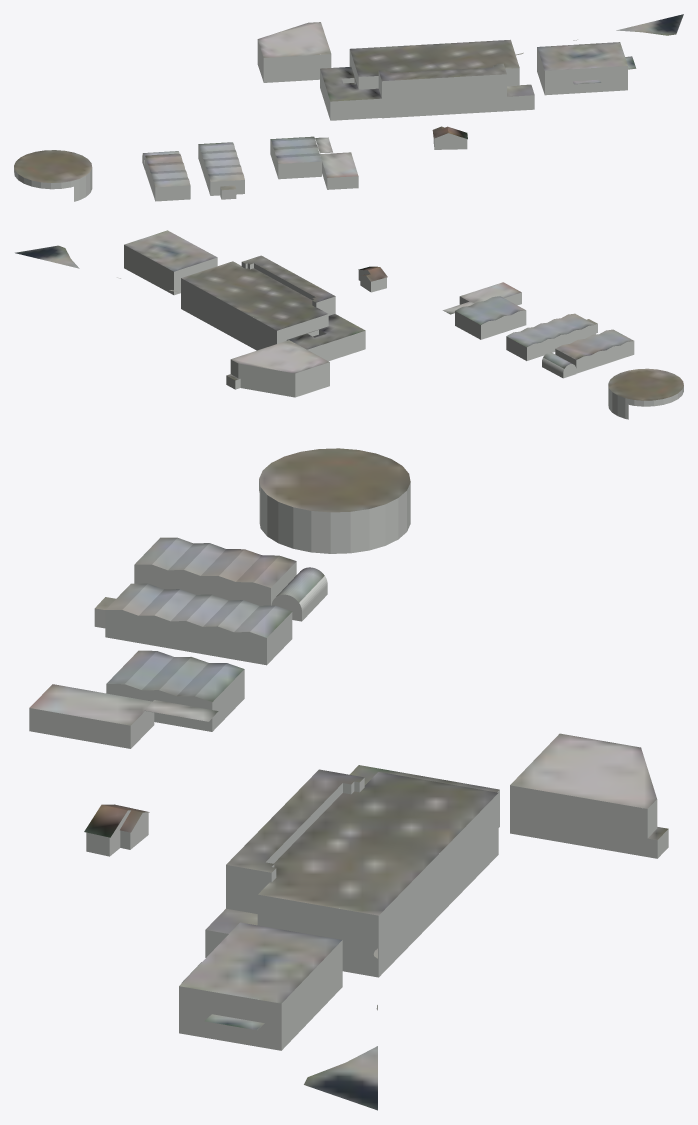
The model's file is LSGG_-3_-4.glb.
The picture shows the model from 3 angles, top to bottom: view 1: azimuth 30°, elevation 25°; view 2: azimuth 150°, elevation 25°; view 3: azimuth 270°, elevation 25°; orthographic projection. The views are drawn at different scales.
Parts seen in each view (by area): view 1: building_96167df593179bdd, building_eed966557655fe4e, building_76de2e909f078524, building_7ff7ebfd052c9dc2, building_52f3177f1ef45402, building_64ed2447fc3cdbe9, building_bb6d4329c1893551, building_b19aae740c8fd59b, pavement_LSGG_pavement_4992_2239; view 2: building_96167df593179bdd, building_eed966557655fe4e, building_76de2e909f078524, building_7ff7ebfd052c9dc2, building_b19aae740c8fd59b, building_52f3177f1ef45402, building_bb6d4329c1893551, building_64ed2447fc3cdbe9, pavement_LSGG_pavement_4992_2239; view 3: building_96167df593179bdd, building_eed966557655fe4e, building_76de2e909f078524, building_7ff7ebfd052c9dc2, building_52f3177f1ef45402, building_64ed2447fc3cdbe9, building_b19aae740c8fd59b, building_bb6d4329c1893551, pavement_LSGG_pavement_4992_2239.
Part boxes in pixels (<box>): building_96167df593179bdd: <box>270,39,534,177</box>; building_eed966557655fe4e: <box>270,49,534,189</box>; building_76de2e909f078524: <box>14,142,244,190</box>; building_7ff7ebfd052c9dc2: <box>14,145,244,201</box>; building_52f3177f1ef45402: <box>537,42,636,84</box>; building_64ed2447fc3cdbe9: <box>537,48,635,95</box>; building_bb6d4329c1893551: <box>257,22,331,57</box>; building_b19aae740c8fd59b: <box>257,40,331,82</box>; pavement_LSGG_pavement_4992_2239: <box>516,14,683,55</box>; building_96167df593179bdd: <box>181,255,525,349</box>; building_eed966557655fe4e: <box>181,262,526,361</box>; building_76de2e909f078524: <box>506,313,683,400</box>; building_7ff7ebfd052c9dc2: <box>506,323,683,419</box>; building_b19aae740c8fd59b: <box>226,359,329,397</box>; building_52f3177f1ef45402: <box>124,230,217,271</box>; building_bb6d4329c1893551: <box>226,340,329,380</box>; building_64ed2447fc3cdbe9: <box>124,245,217,295</box>; pavement_LSGG_pavement_4992_2239: <box>15,245,178,292</box>; building_96167df593179bdd: <box>29,650,499,933</box>; building_eed966557655fe4e: <box>29,669,499,977</box>; building_76de2e909f078524: <box>95,448,410,637</box>; building_7ff7ebfd052c9dc2: <box>94,479,410,665</box>; building_52f3177f1ef45402: <box>179,922,341,1030</box>; building_64ed2447fc3cdbe9: <box>179,940,342,1050</box>; building_b19aae740c8fd59b: <box>510,785,668,858</box>; building_bb6d4329c1893551: <box>510,733,668,840</box>; pavement_LSGG_pavement_4992_2239: <box>304,948,377,1110</box>.
Bounding box in the file's own units: 449 × 23.53 × 190.
3 materials, 2 textured.
